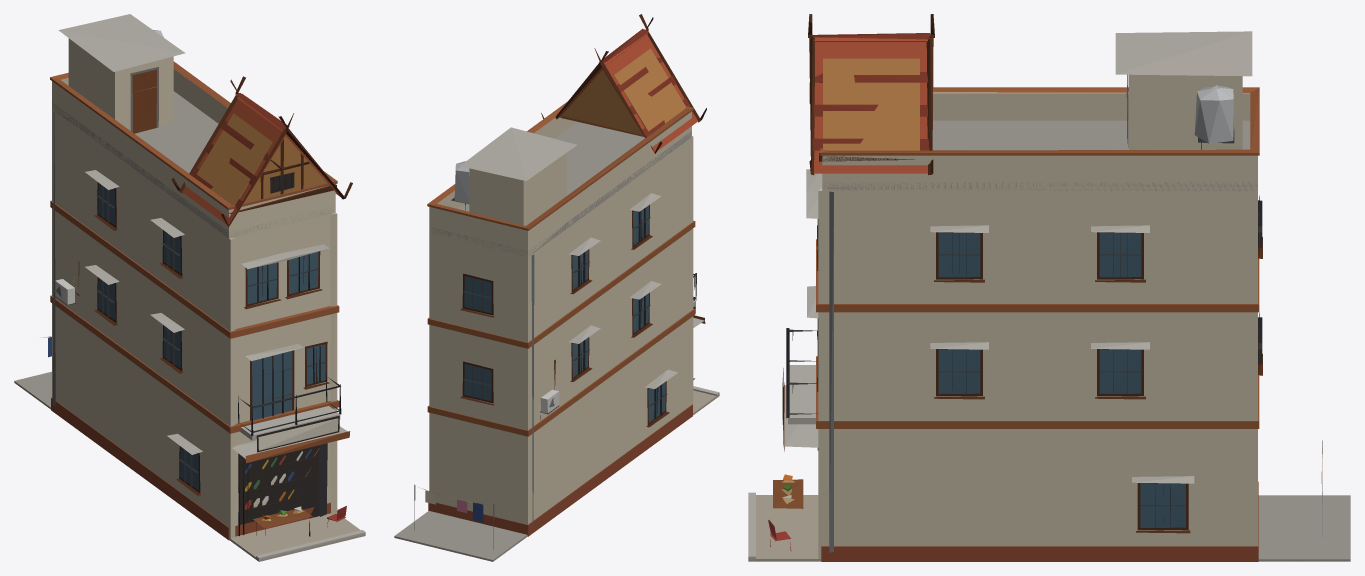
Rendered from bay2_one.glb.
3 renders of one model, left to right at view 1: azimuth 30°, elevation 25°; view 2: azimuth 150°, elevation 25°; view 3: azimuth 270°, elevation 25°, orthographic. The views are drawn at different scales.
Visible parts, largest first — view 1: body, windows; view 2: body, windows; view 3: body, windows.
Boxes of the visible parts, x1,y1,x2,y2 form: body: [14, 14, 365, 561]; windows: [98, 172, 325, 524]; body: [394, 14, 719, 561]; windows: [464, 205, 665, 422]; body: [748, 14, 1350, 561]; windows: [938, 197, 1259, 527].
Size of the model in its own units: 4.95 by 14.92 by 15.9.
